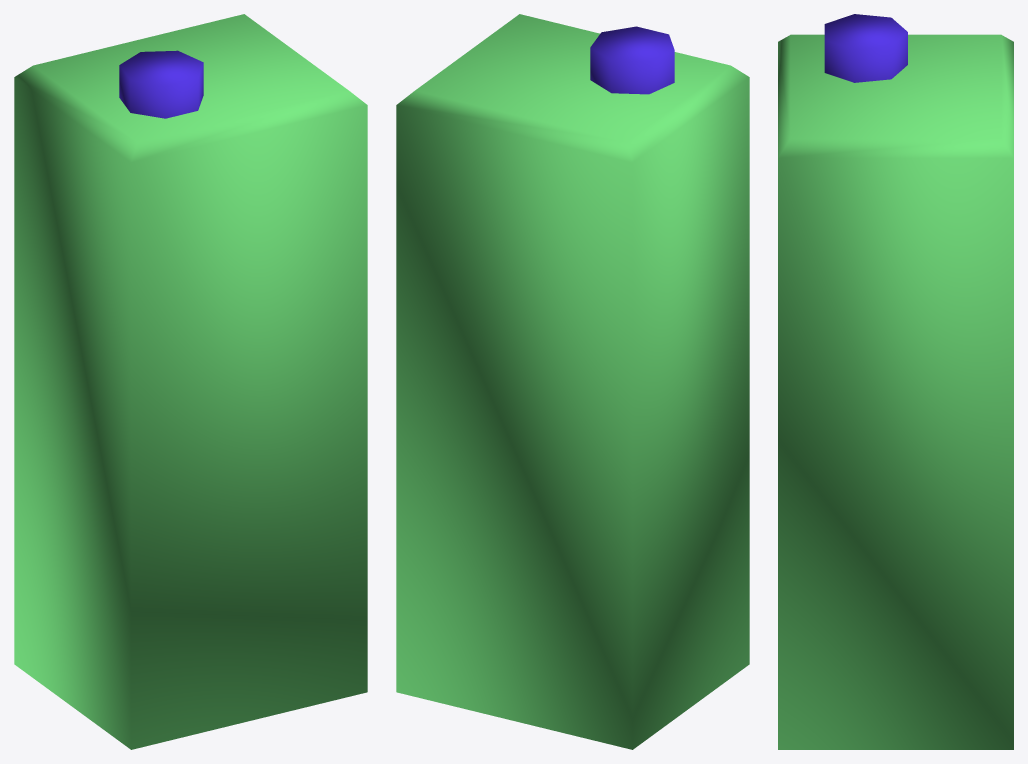
File: succo_pera.fbx
3 views of the same model, side by side, from view 1: azimuth 30°, elevation 25°; view 2: azimuth 150°, elevation 25°; view 3: azimuth 270°, elevation 25° (orthographic).
Parts seen in each view (by area): view 1: pera; view 2: pera; view 3: pera.
Part boxes in pixels (x1,y1,x2,y2): pera: (14,14,367,749); pera: (396,14,749,749); pera: (778,14,1013,749).
Bounding box in the file's own units: 82.46 × 211 × 70.7.
